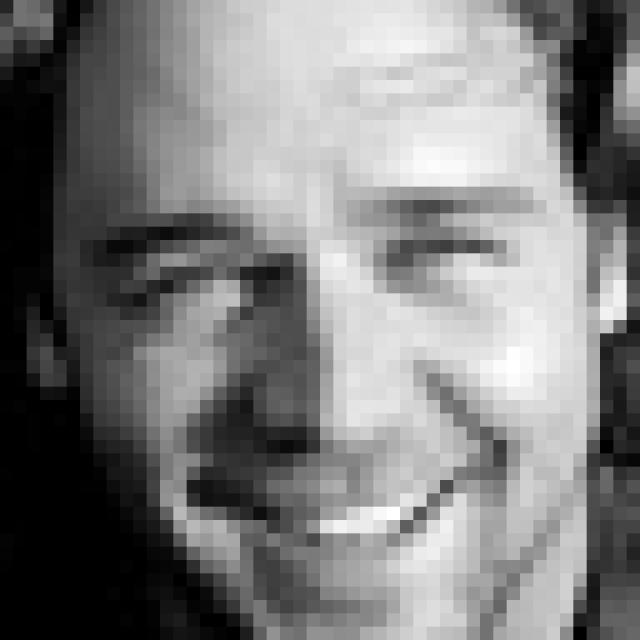happy: (84, 185, 550, 610)
